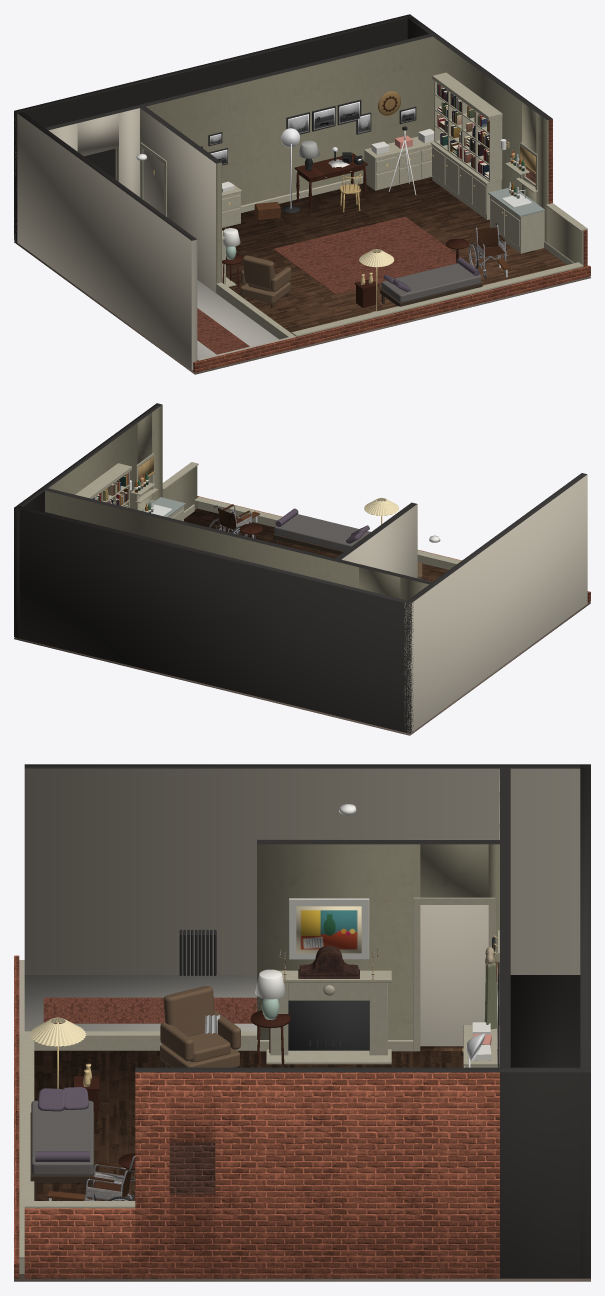
Rendered from room.glb.
The picture shows the model from 3 angles, top to bottom: view 1: azimuth 30°, elevation 25°; view 2: azimuth 150°, elevation 25°; view 3: azimuth 270°, elevation 25°; orthographic projection. The views are drawn at different scales.
Visible parts, largest first — view 1: left_hallwall_ext, back_wall_0, floor_room, furn_cream_paint, back_module, furn_rug, hall_face_partition, kerb_front_ext, left_wall_3, books_shelved, furn_mahogany, floor_hall (+26 smaller); view 2: back_module_ext, left_hallwall_ext, back_wall_0, hall_face_partition, left_wall_3, daybed_mattress, furn_cream_paint, subfloor_ext, floor_room, back_wall_0_ext, left_wall_back_ext, left_wall_0 (+8 smaller); view 3: left_hallwall, left_wallbrick_3_ext, left_wall_back_ext, back_partition_0, floor_room, hall_face_partition, furn_cream_paint, kerb_westbrick_0_ext, left_wallbrick_0_ext, floor_stair, floor_hall, back_module_ext (+27 smaller).
Part boxes in pixels (x1,y1,x2,y2): left_hallwall_ext: (14,111,196,369); back_wall_0: (115,36,432,205); floor_room: (222,177,566,333); furn_cream_paint: (140,72,544,287); back_module: (23,18,407,179); furn_rug: (197,216,466,354); hall_face_partition: (140,108,215,292); kerb_front_ext: (193,265,590,372); left_wall_3: (432,37,523,192); books_shelved: (437,83,489,179); furn_mahogany: (222,153,468,307); floor_hall: (197,280,278,359); back_module_ext: (14,505,413,733); left_hallwall_ext: (404,473,587,733); back_wall_0: (45,490,358,588); hall_face_partition: (342,504,417,577); left_wall_3: (48,423,137,509); daybed_mattress: (274,514,370,551); furn_cream_paint: (75,453,183,521); subfloor_ext: (14,602,590,735); floor_room: (184,508,448,581); back_wall_0_ext: (45,488,361,567); left_wall_back_ext: (14,487,47,638); left_wall_0: (150,405,162,502); left_hallwall: (24,768,580,974); left_wallbrick_3_ext: (215,1069,499,1278); left_wall_back_ext: (500,1067,590,1278); back_partition_0: (257,844,420,1039); floor_room: (34,1051,463,1200); hall_face_partition: (257,839,499,1046); furn_cream_paint: (266,897,499,1067); kerb_westbrick_0_ext: (24,1208,135,1278); left_wallbrick_0_ext: (135,1069,169,1278); floor_stair: (510,975,580,1067); floor_hall: (24,975,256,1031); back_module_ext: (580,764,590,1278).
Size of the model in its own units: 9.6 by 3.05 by 7.6.
Materials: 63 (33 with a texture image).
